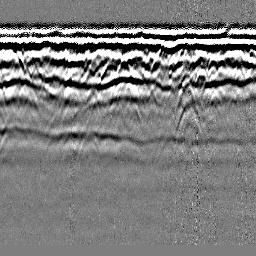cavity: (113, 52, 140, 85)
